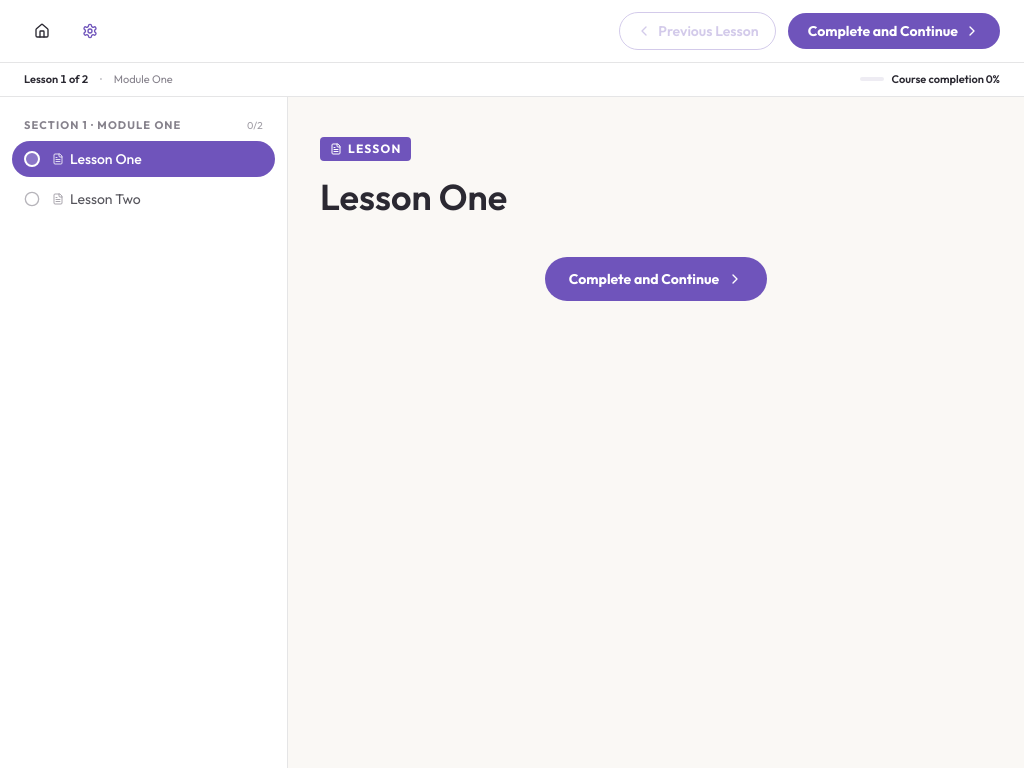
CourseLearn › handleMarkDone awaits completion before updating the UI
Later steps or results of the test are not shown.
Expected: the heading "Lesson One" is shown, left=320, top=174, right=507, bottom=218
Expected: the text "Complete and Continue" is shown, left=808, top=21, right=958, bottom=41
Click the 1st button "Complete and Continue". click: point(894, 31)
box: left=788, top=13, right=1000, bottom=49
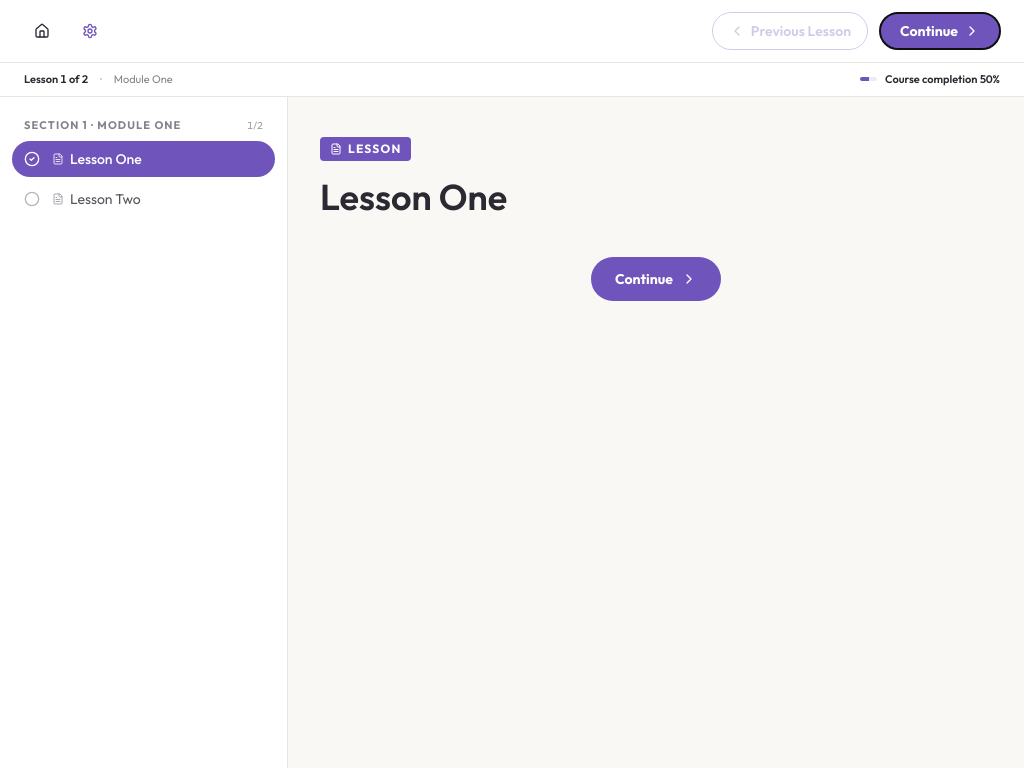
Expected: no buttons "Complete and Continue" are shown
